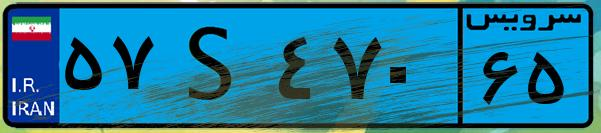0: (385, 28, 445, 110)
4: (270, 28, 330, 110)
5: (57, 26, 110, 100), (525, 38, 570, 115)
6: (475, 38, 525, 113)
7: (330, 28, 385, 110), (110, 28, 158, 98)
S: (158, 12, 270, 120)
